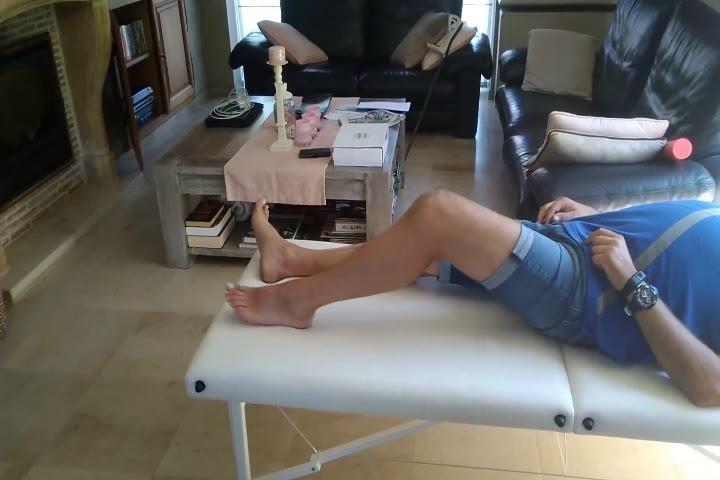lower_body: (217, 185, 612, 358)
